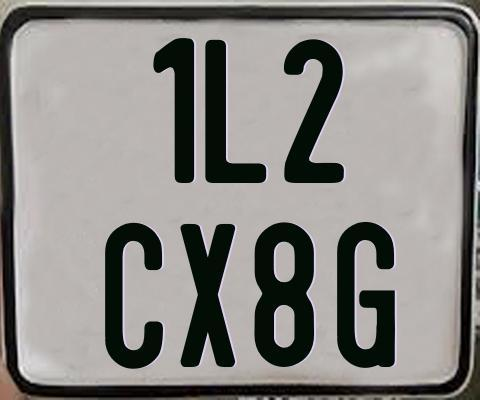1: (152, 37, 197, 182)
2: (284, 38, 349, 188)
8: (253, 221, 315, 369)
C: (103, 222, 162, 373)
G: (335, 219, 398, 368)
L: (203, 38, 267, 187)
X: (178, 222, 235, 371)
